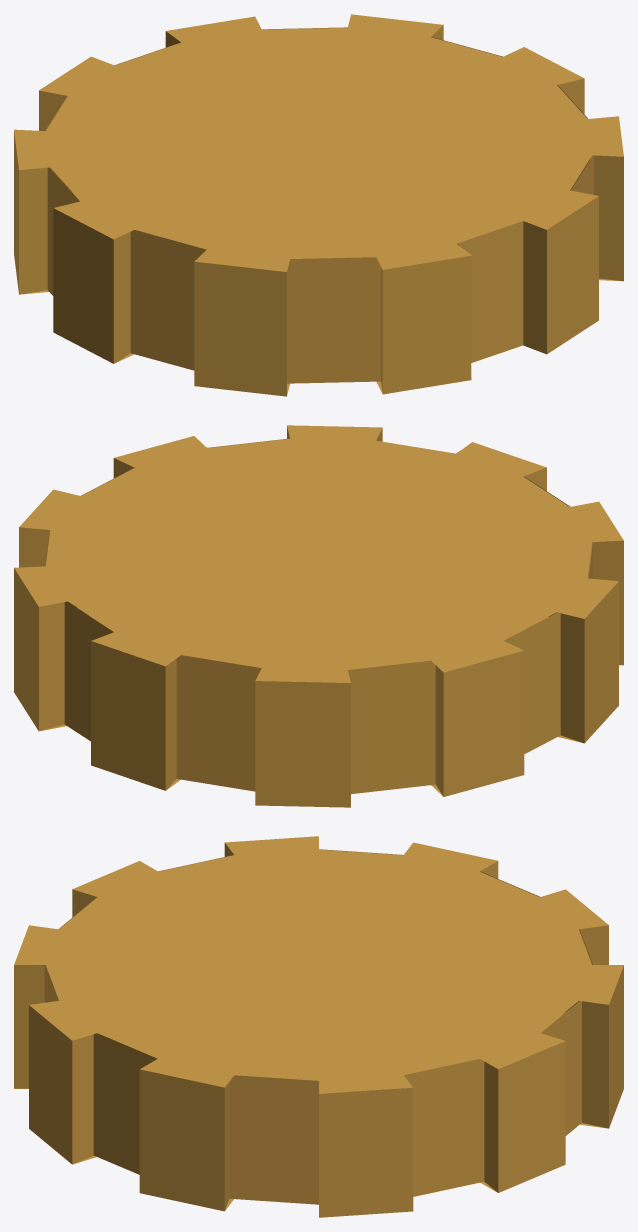
3 views of the same model, one above another, from view 1: azimuth 30°, elevation 25°; view 2: azimuth 150°, elevation 25°; view 3: azimuth 270°, elevation 25° (orthographic).
Parts seen in each view (by area): view 1: pCylinder1; view 2: pCylinder1; view 3: pCylinder1.
Boxes of the visible parts, box(x1,y1,x2,y2) form: pCylinder1: box(14, 14, 623, 396); pCylinder1: box(14, 425, 623, 807); pCylinder1: box(14, 836, 623, 1217).
Size of the model in its own units: 4.46 by 1 by 4.46.
